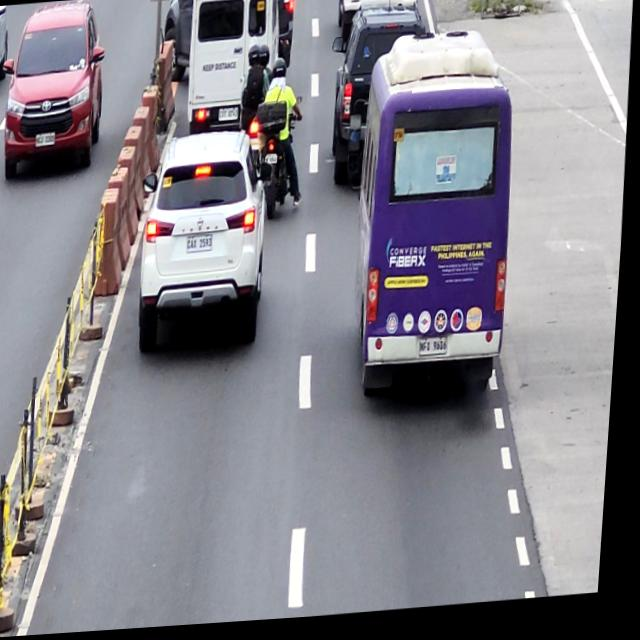Bus: (349, 30, 527, 409)
Car: (135, 132, 279, 357), (326, 6, 431, 193), (184, 0, 283, 142), (160, 0, 296, 92), (336, 0, 423, 44)
License-Plate: (423, 341, 453, 362), (190, 239, 216, 256), (219, 110, 240, 125), (266, 156, 280, 169)
Motorcycle: (251, 97, 306, 225)
